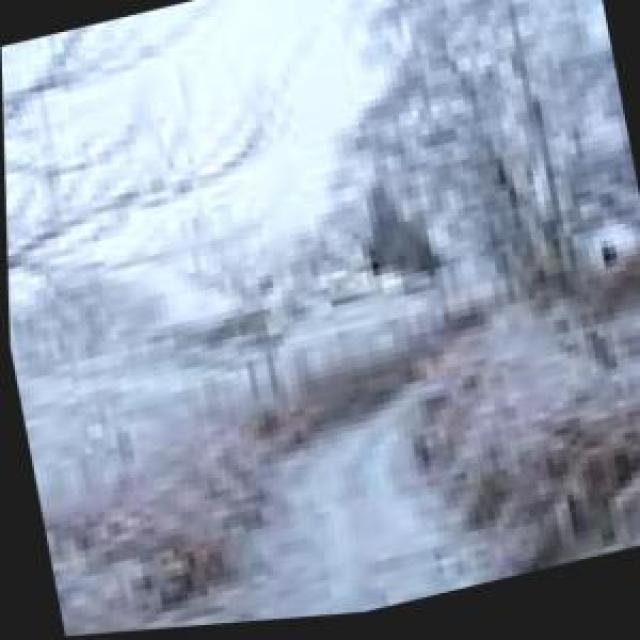ice-road: (251, 385, 549, 625)
